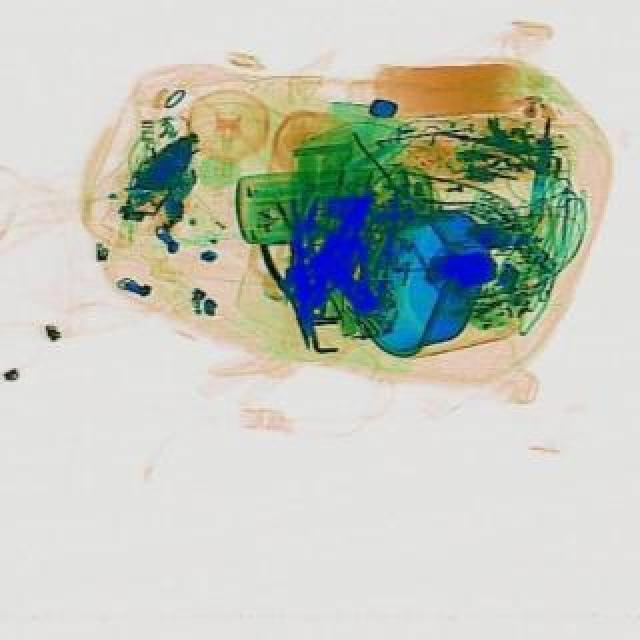wrench: (264, 238, 338, 356)
